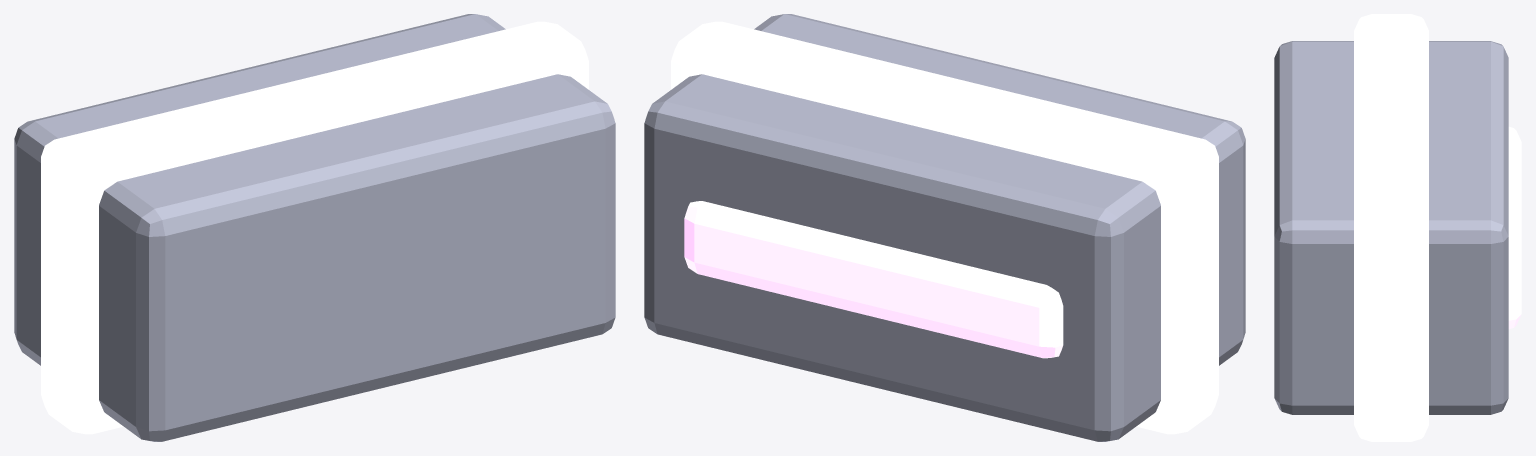
File: brick_bomb.glb
3 views of the same model, side by side, from view 1: azimuth 30°, elevation 25°; view 2: azimuth 150°, elevation 25°; view 3: azimuth 270°, elevation 25° (orthographic). The views are drawn at different scales.
Parts seen in each view (by area): view 1: brick_bomb; view 2: brick_bomb; view 3: brick_bomb.
Part boxes in pixels (bbox=[...]): brick_bomb: bbox=[14, 14, 615, 441]; brick_bomb: bbox=[644, 14, 1245, 441]; brick_bomb: bbox=[1274, 14, 1521, 441].
Bounding box in the file's own units: 0.98 × 0.5 × 0.4853.
